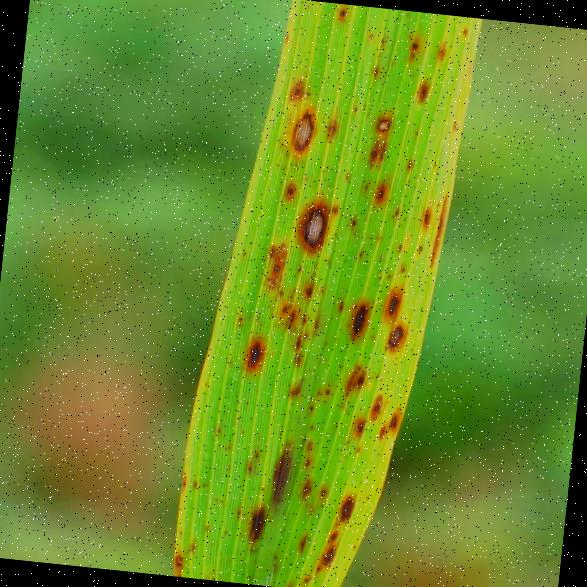Brown_Spot: (253, 434, 306, 517), (296, 193, 338, 250), (337, 286, 377, 339), (285, 104, 321, 158), (308, 522, 342, 578), (235, 326, 271, 378), (235, 505, 276, 550), (338, 353, 378, 397), (333, 482, 372, 526), (363, 172, 403, 209), (378, 278, 410, 322), (427, 188, 444, 268), (279, 68, 316, 102), (383, 316, 411, 354), (393, 28, 419, 68), (363, 386, 386, 422), (410, 199, 433, 234), (384, 400, 404, 440), (364, 112, 398, 135), (345, 411, 371, 438), (327, 2, 354, 24), (164, 552, 188, 576), (410, 75, 430, 103), (431, 38, 453, 62), (460, 24, 469, 36)
